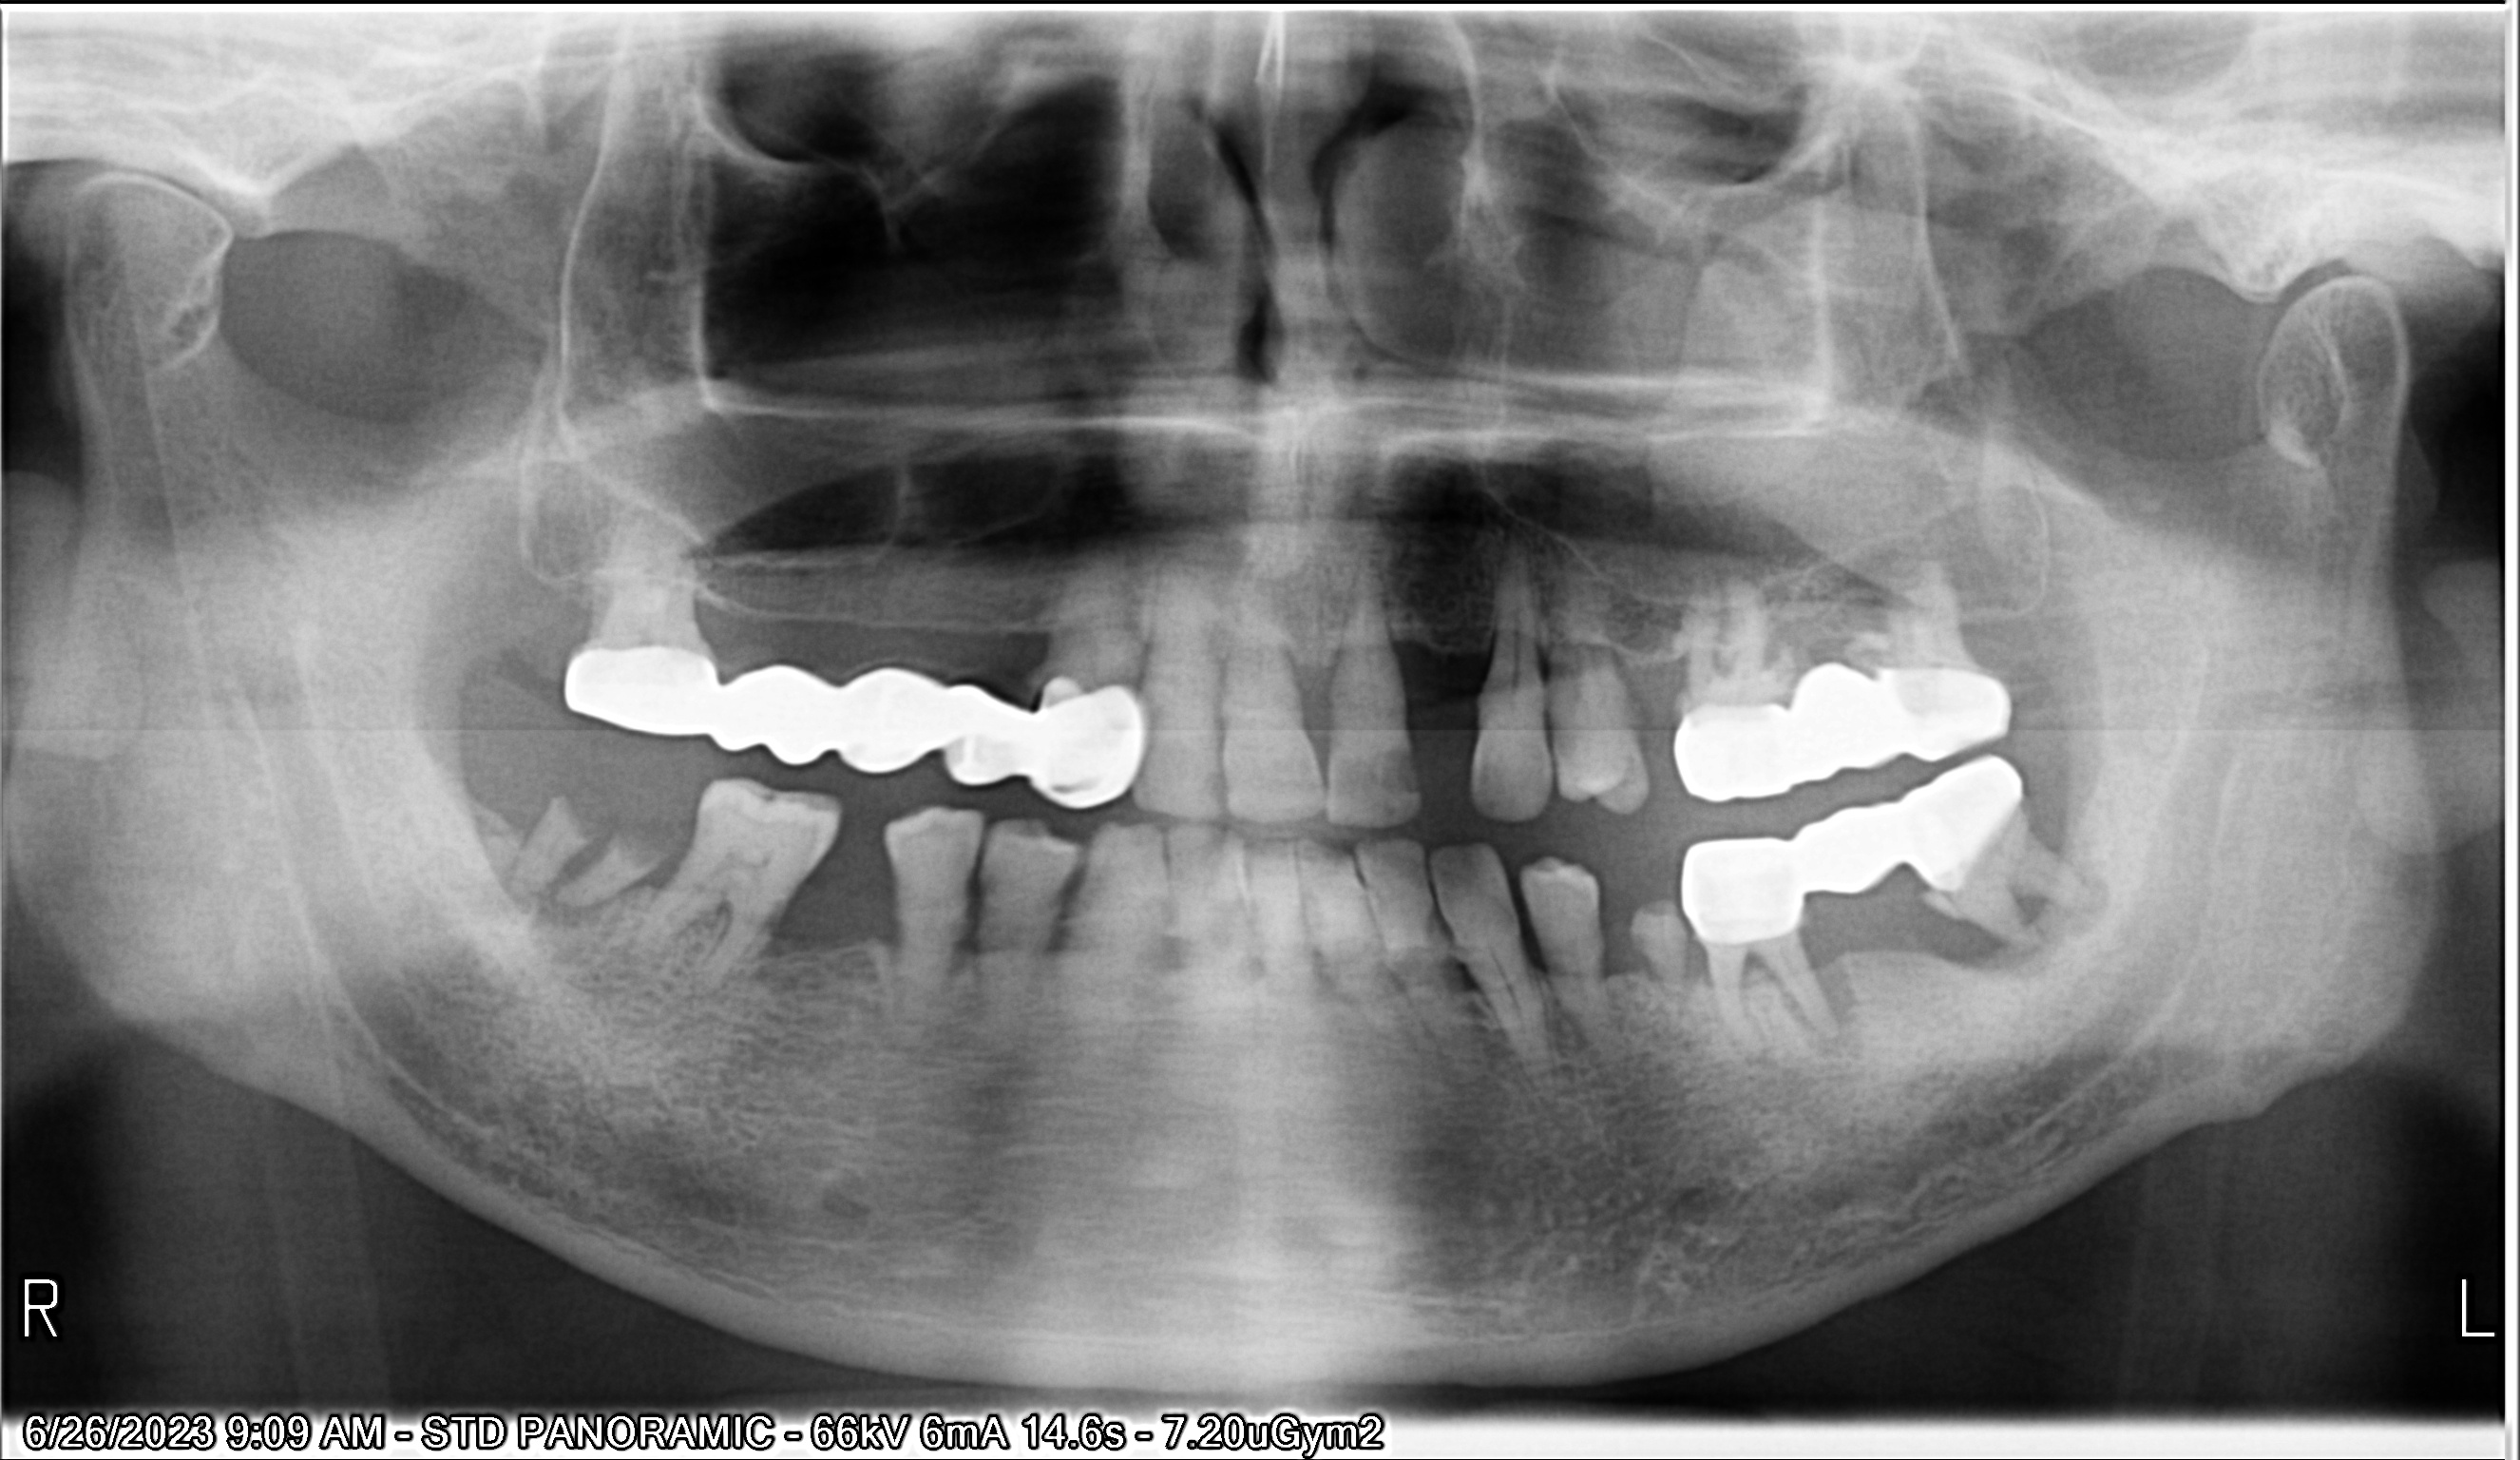API: (1804, 1020, 1869, 1086), (2063, 879, 2124, 933), (2009, 923, 2056, 977), (483, 859, 533, 907), (551, 890, 590, 946)
BON: (1926, 902, 2002, 965), (764, 879, 813, 965), (1799, 935, 1857, 1003), (1372, 925, 1407, 998), (1158, 895, 1188, 977), (1440, 926, 1471, 999), (1539, 640, 1563, 732), (1297, 671, 1327, 742), (1626, 660, 1648, 742), (1395, 638, 1414, 733), (1216, 657, 1235, 749), (587, 581, 613, 645), (1247, 906, 1270, 977), (1598, 919, 1620, 984), (962, 890, 981, 965), (1143, 638, 1164, 706), (886, 879, 900, 959), (1299, 912, 1315, 982), (695, 589, 709, 662), (1520, 928, 1540, 972), (1059, 885, 1070, 959)
CAR: (1377, 742, 1419, 806), (1197, 756, 1221, 812)
FUR: (2001, 867, 2062, 925), (1730, 951, 1773, 996)
PRR: (559, 631, 1127, 780), (1676, 742, 2072, 935), (1672, 662, 2023, 786)
ROT: (1624, 890, 1693, 1005), (589, 822, 669, 914), (507, 786, 564, 881)
